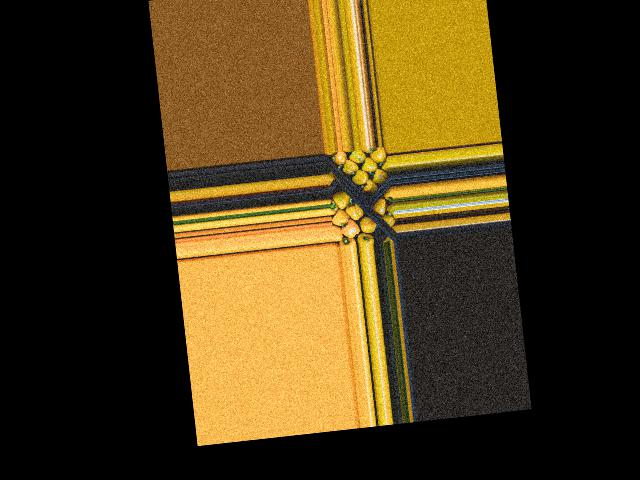bell_pepper: (371, 146, 389, 167)
